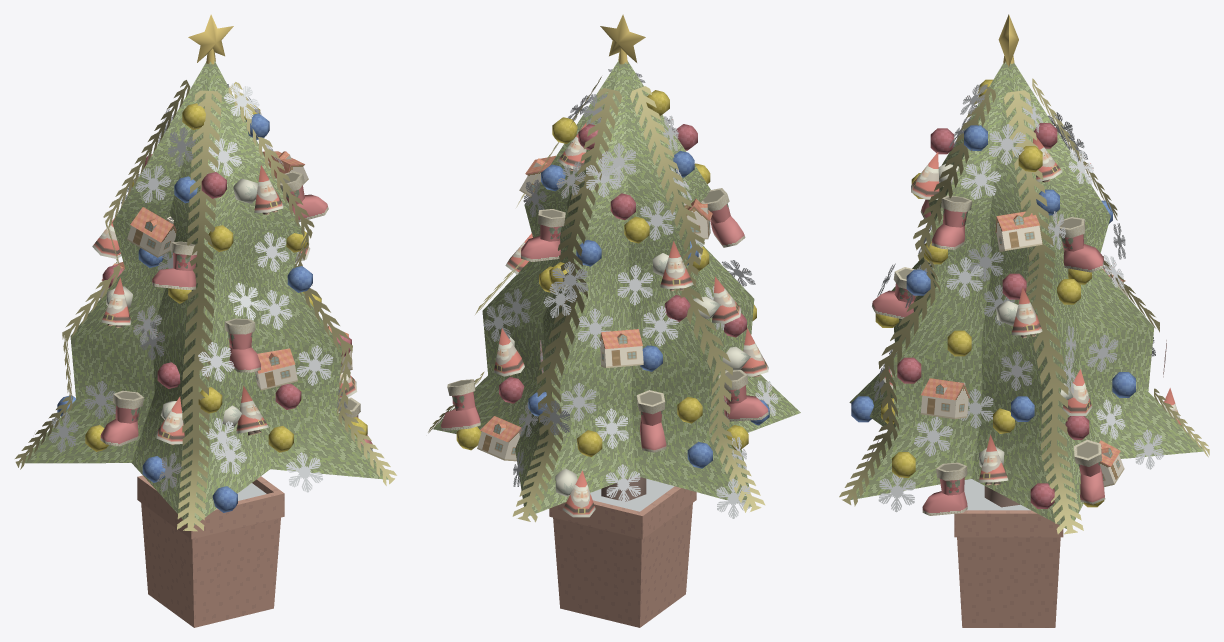
The model's file is 05ba_Xmas_Tree.glb.
3 renders of one model, left to right at view 1: azimuth 30°, elevation 25°; view 2: azimuth 150°, elevation 25°; view 3: azimuth 270°, elevation 25°, orthographic.
Parts seen in each view (by area): view 1: part_0; view 2: part_0; view 3: part_0.
Boxes of the visible parts, bbox=[...] form: part_0: bbox=[15, 14, 396, 627]; part_0: bbox=[428, 14, 800, 627]; part_0: bbox=[839, 14, 1209, 627].
Size of the model in its own units: 0.7517 by 1.26 by 0.7149.
Materials: 1 (1 with a texture image).
